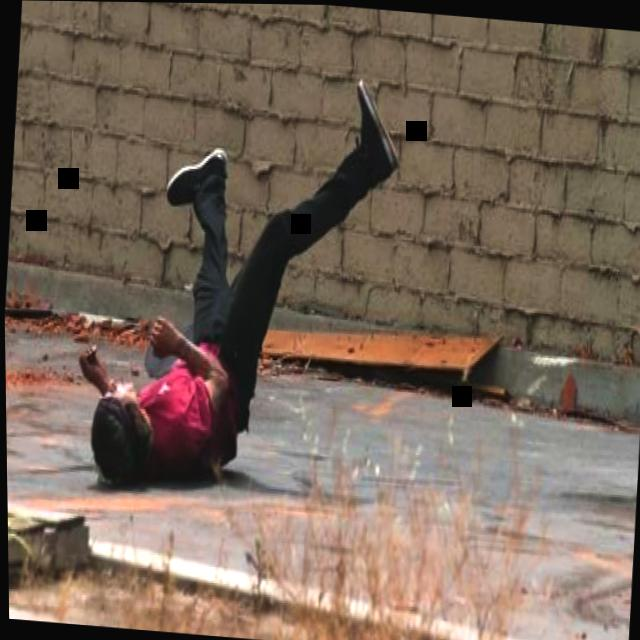Fall-Detected: (47, 59, 432, 490)
